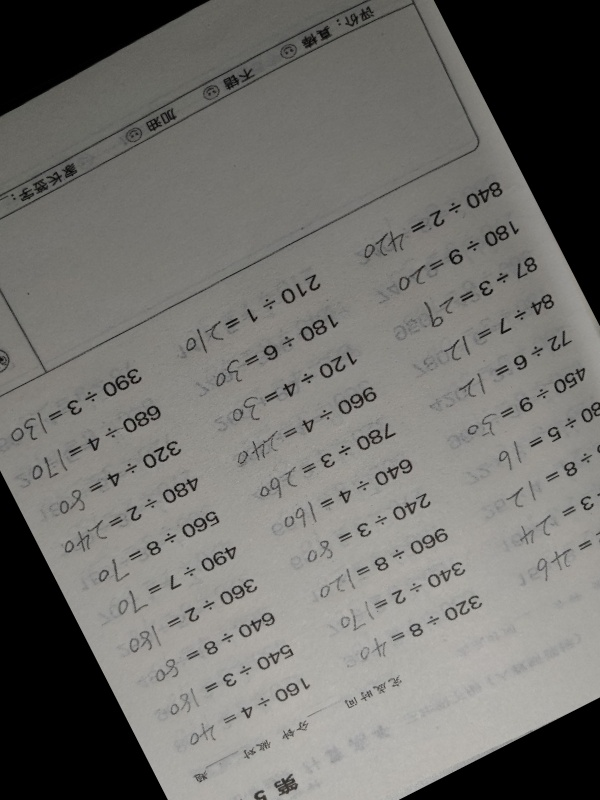equation: (354, 182, 503, 263), (267, 455, 413, 535), (246, 421, 392, 500), (180, 274, 324, 352), (54, 479, 197, 557), (232, 387, 376, 464), (117, 579, 259, 656), (5, 369, 144, 446), (220, 350, 356, 423), (27, 407, 161, 480), (315, 526, 448, 598), (204, 315, 337, 387), (91, 513, 222, 586), (389, 220, 521, 292), (301, 487, 429, 559), (164, 644, 293, 714), (51, 443, 181, 512), (446, 332, 573, 402), (336, 560, 464, 629), (463, 368, 590, 437), (114, 548, 240, 616), (150, 612, 276, 680), (184, 677, 310, 745), (356, 592, 480, 661), (485, 439, 600, 513), (416, 255, 538, 324), (437, 295, 557, 360), (487, 404, 600, 469), (515, 474, 600, 542), (523, 506, 600, 577)
